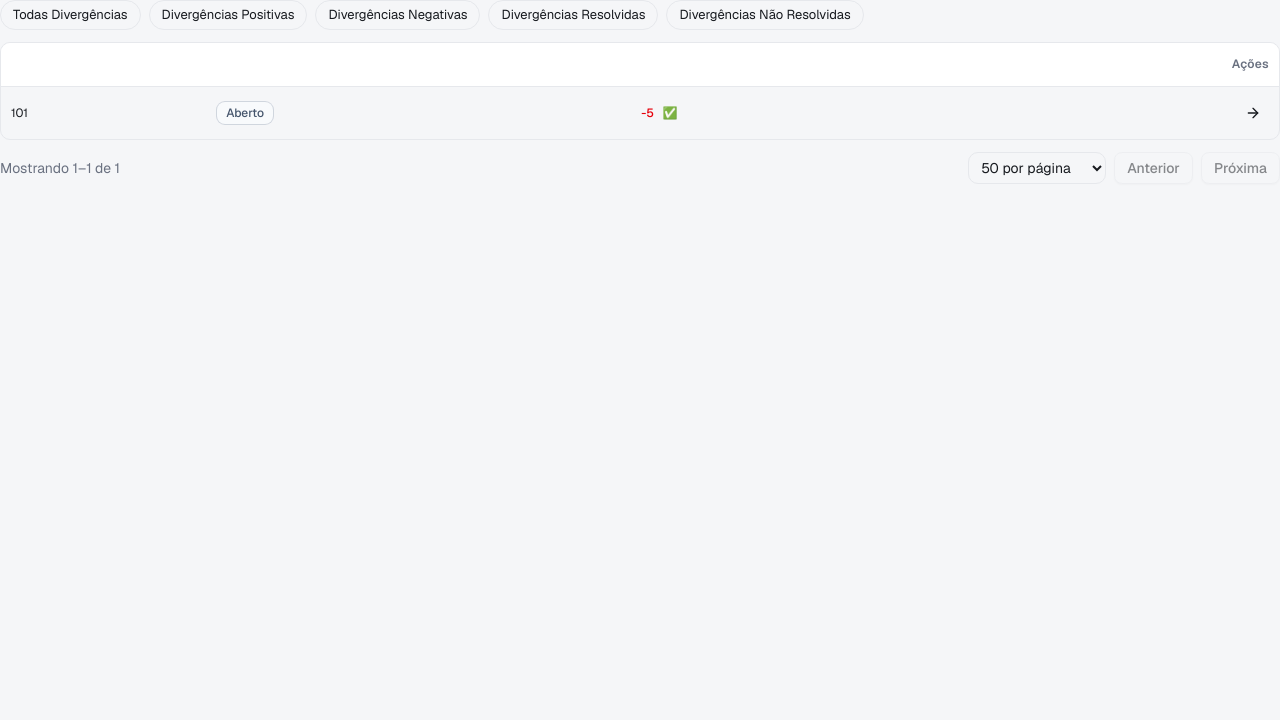
Scenario: diálogo de justificativa › salvar vazio apaga: o selo volta de ✅ para ?
Click the button named "Divergência justificada" at (670, 113), box top-left (660, 103), bottom-right (680, 123)
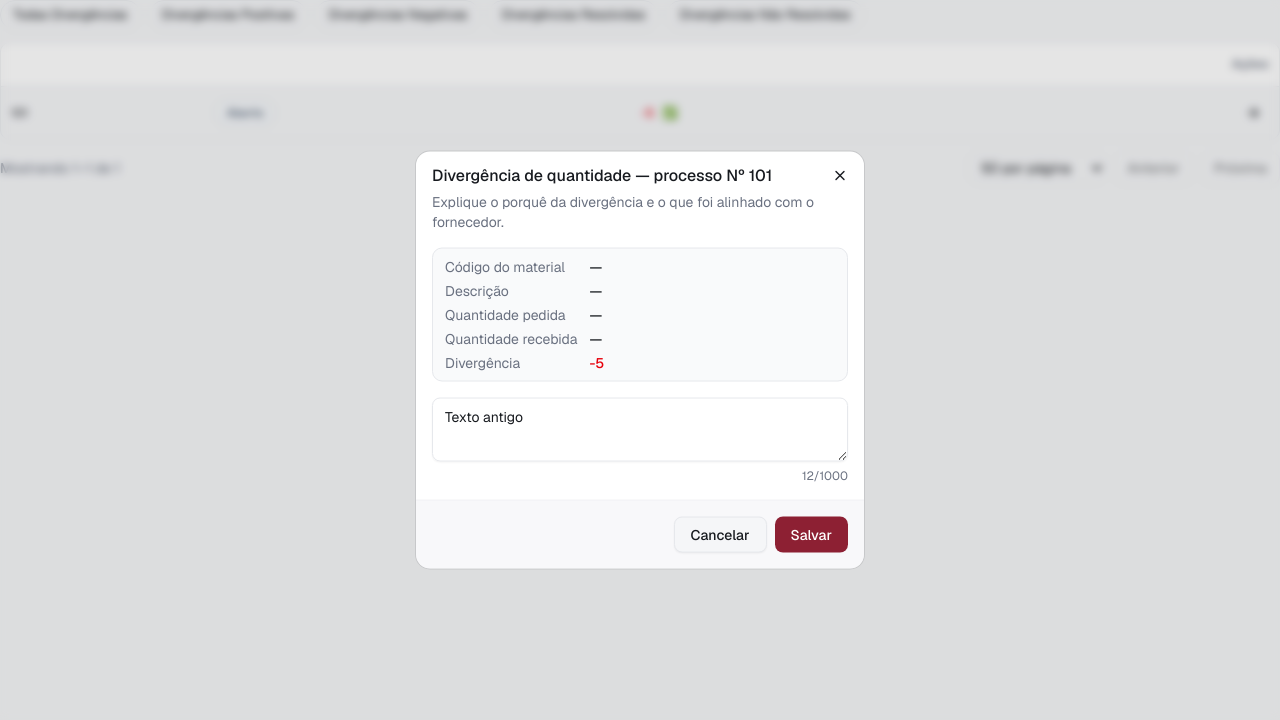
Clear the text box named "Justificativa da divergência" at (640, 430), box top-left (432, 398), bottom-right (848, 462)
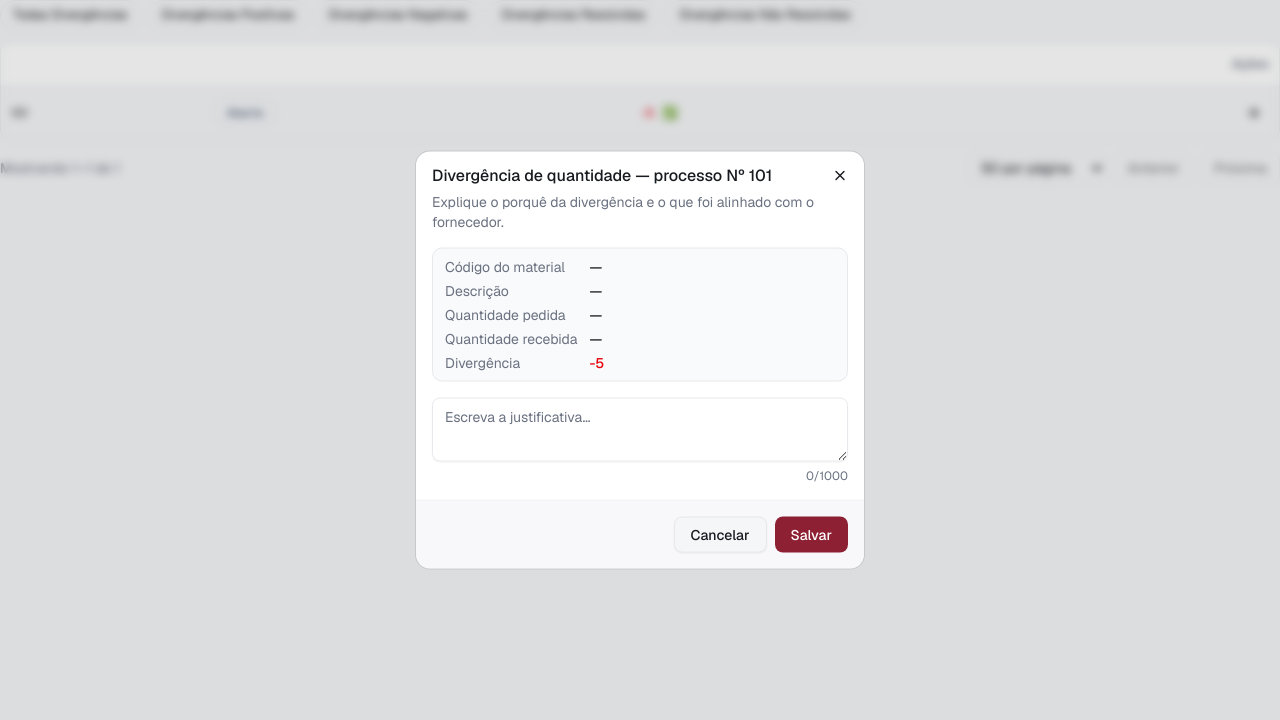
Click the button "Salvar" at (811, 534), box top-left (774, 516), bottom-right (848, 552)
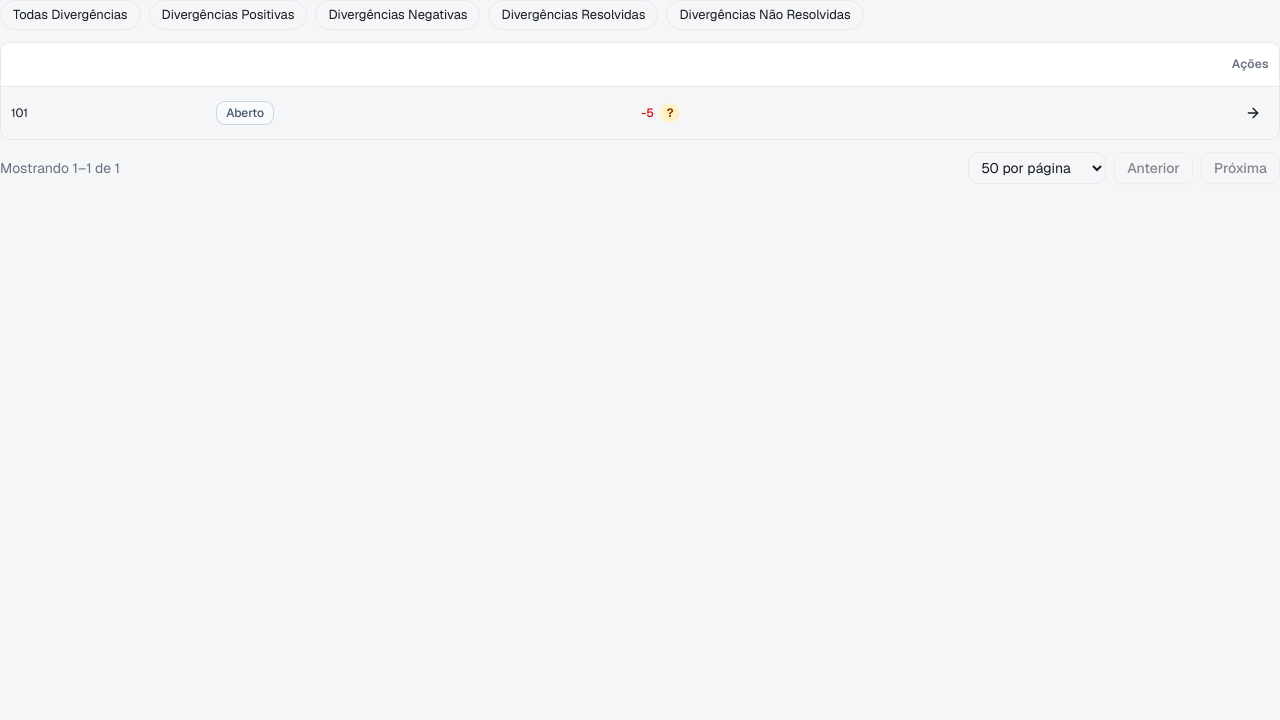
Result: the button named "Divergência sem justificativa" is shown at top-left (660, 103), bottom-right (680, 123)
